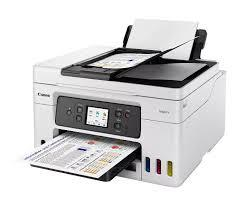printer: (24, 17, 226, 187)
